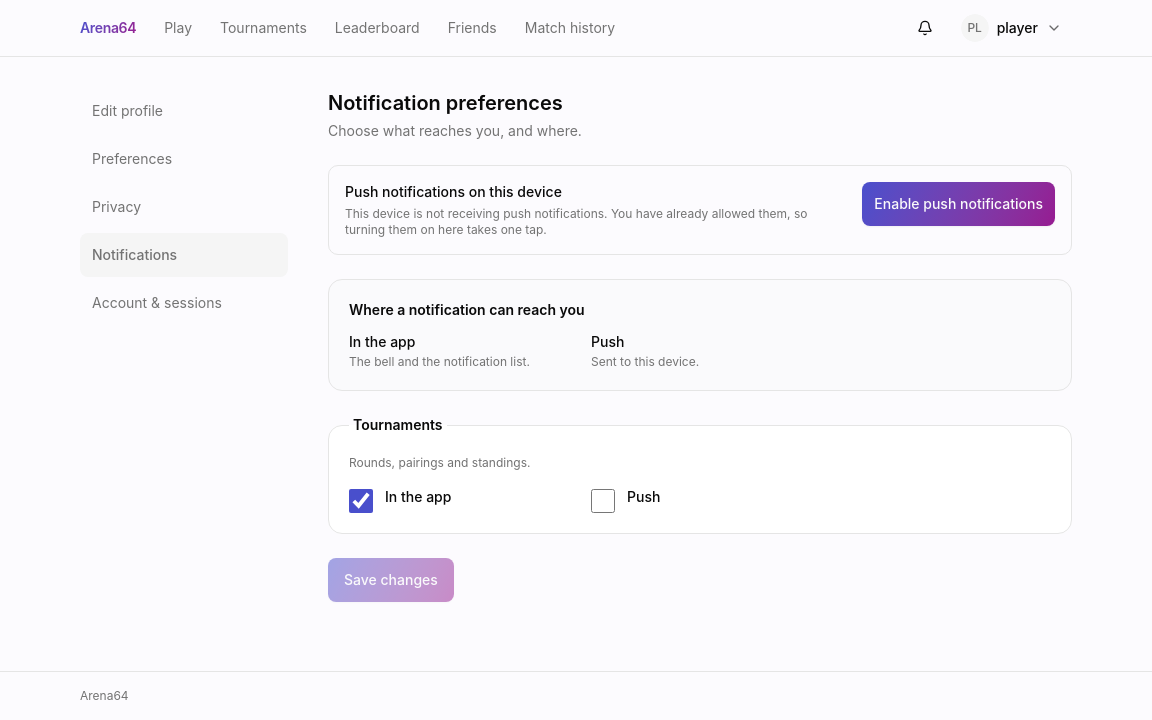
Test: a browser with no service worker › answers instead of spinning forever
Click the button "Enable push notifications" at (959, 204), box [862,182,1055,226]
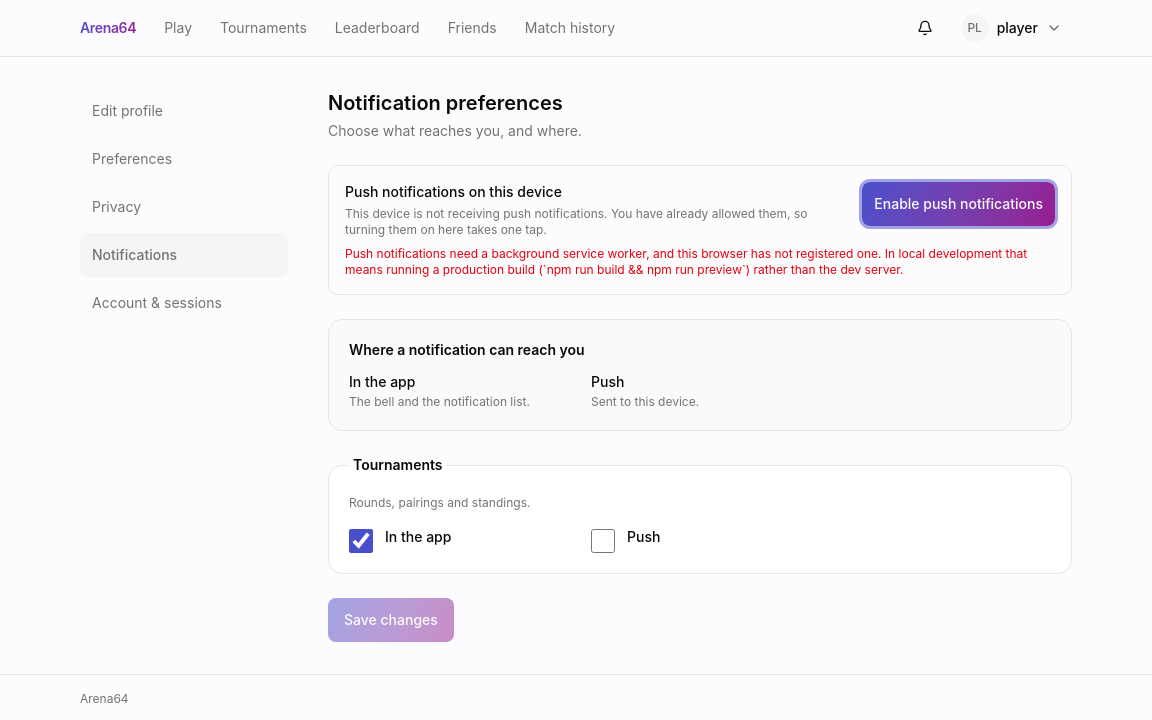
Check: the message shows "service worker", box [345,246,1027,277]
